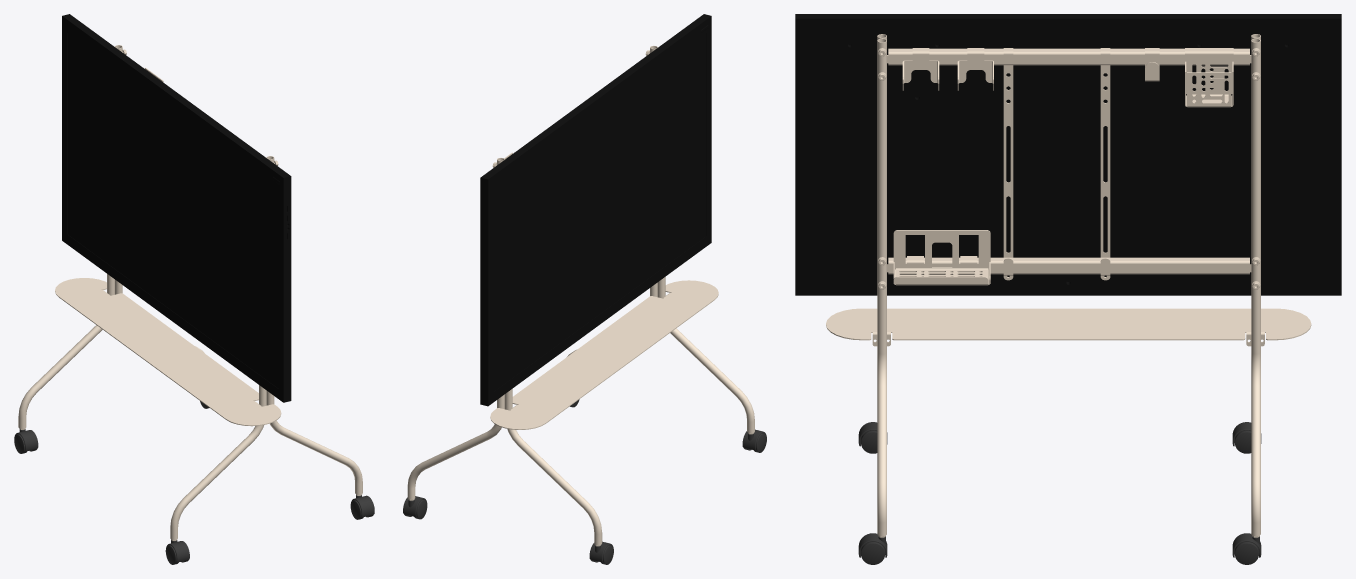
File: paso-01-crema.glb
3 views of the same model, side by side, from view 1: azimuth 30°, elevation 25°; view 2: azimuth 150°, elevation 25°; view 3: azimuth 270°, elevation 25° (orthographic). The views are drawn at different scales.
Parts seen in each view (by area): view 1: Cuerpo1_34, Cuerpo1_30, Cuerpo1_1, Cuerpo1_4, Cuerpo1; view 2: Cuerpo1_34, Cuerpo1_30, Cuerpo1_4, Cuerpo1_1, Cuerpo1_3; view 3: Cuerpo1_34, Cuerpo1_30, Cuerpo1_5, Cuerpo1, Cuerpo1_3, Cuerpo1_2, Cuerpo1_8, Cuerpo1_9, Cuerpo2_1, Cuerpo2, Cuerpo1_32, Cuerpo1_33.
Boxes of the visible parts, x1=… form: Cuerpo1_34: x1=62, y1=14, x2=291, y2=402; Cuerpo1_30: x1=55, y1=278, x2=281, y2=426; Cuerpo1_1: x1=170, y1=385, x2=266, y2=539; Cuerpo1_4: x1=18, y1=274, x2=114, y2=428; Cuerpo1: x1=266, y1=156, x2=362, y2=494; Cuerpo1_34: x1=480, y1=14, x2=711, y2=406; Cuerpo1_30: x1=490, y1=280, x2=718, y2=429; Cuerpo1_4: x1=504, y1=389, x2=602, y2=544; Cuerpo1_1: x1=657, y1=277, x2=754, y2=432; Cuerpo1_3: x1=407, y1=158, x2=504, y2=499; Cuerpo1_34: x1=795, y1=14, x2=1341, y2=295; Cuerpo1_30: x1=826, y1=308, x2=1311, y2=346; Cuerpo1_5: x1=887, y1=257, x2=1251, y2=274; Cuerpo1: x1=877, y1=38, x2=886, y2=535; Cuerpo1_3: x1=1251, y1=38, x2=1260, y2=535; Cuerpo1_2: x1=887, y1=48, x2=1251, y2=65; Cuerpo1_8: x1=893, y1=230, x2=990, y2=285; Cuerpo1_9: x1=1185, y1=48, x2=1233, y2=107; Cuerpo2_1: x1=1100, y1=48, x2=1110, y2=277; Cuerpo2: x1=1003, y1=48, x2=1013, y2=277; Cuerpo1_32: x1=902, y1=48, x2=939, y2=90; Cuerpo1_33: x1=957, y1=48, x2=993, y2=90.
Bounding box in the file's own units: 0.5894 × 1.09 × 1.13.
